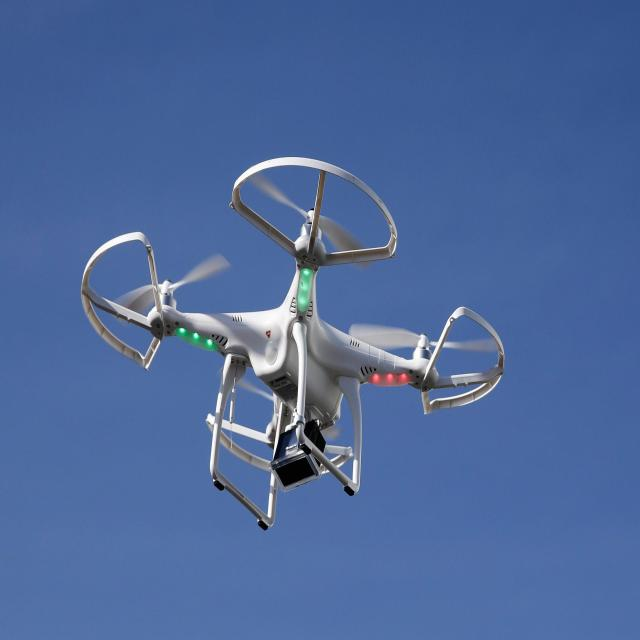drone: (80, 153, 506, 531)
